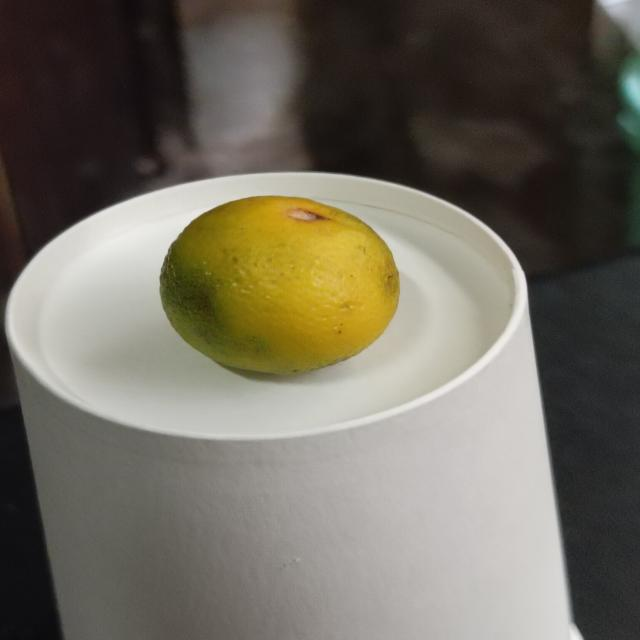greening: (154, 188, 406, 380)
